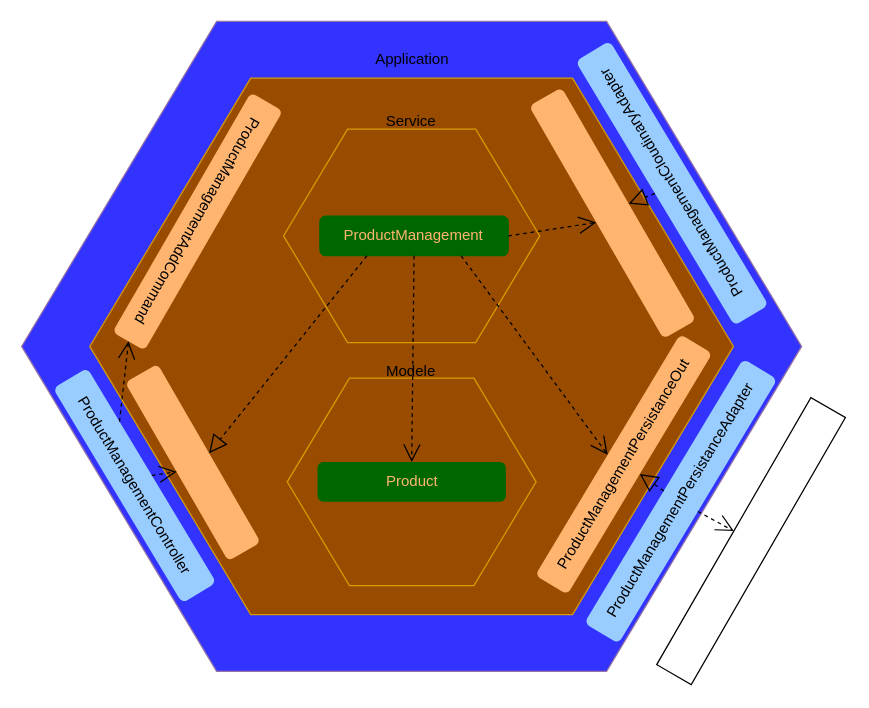
This 869x708 diagram has some shape labels left out. The shapes that lost their labels are listed below. From the top down, each one's centre as x and y in pixels, then its label:
At point (611, 212): "ProductManagementCloudinaryOut".
At point (192, 462): "ProductManagementIn".
At point (750, 540): "ProductManagementRepository".
